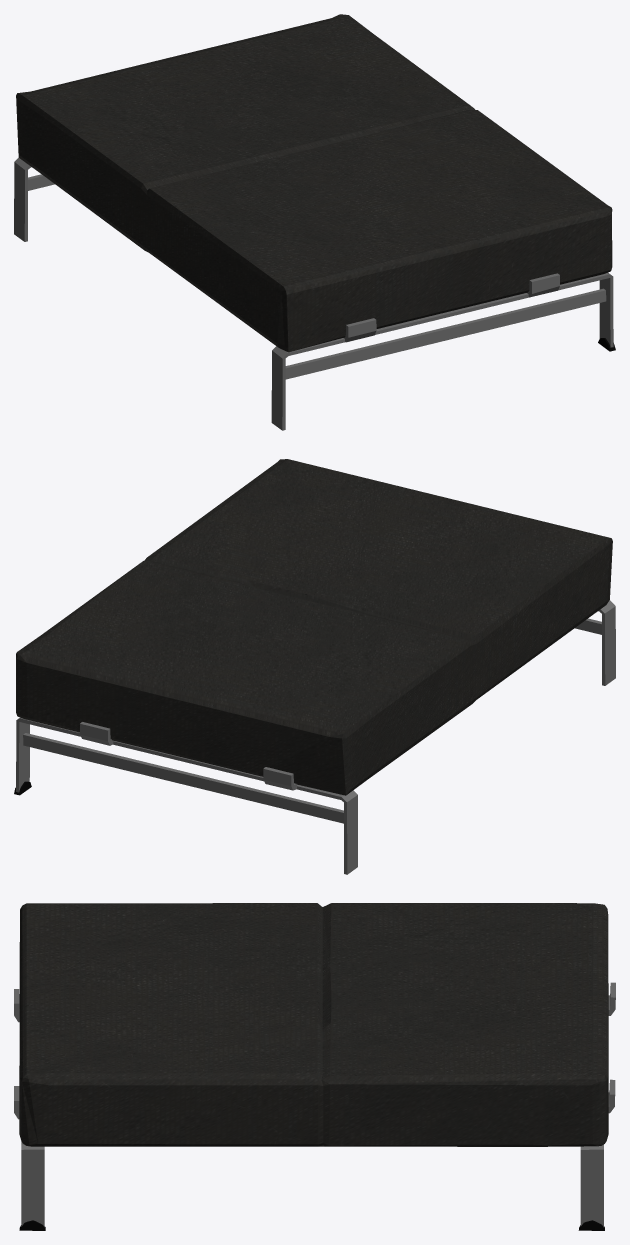
Rendered from Ottoman.fbx.
3 renders of one model, top to bottom at view 1: azimuth 30°, elevation 25°; view 2: azimuth 150°, elevation 25°; view 3: azimuth 270°, elevation 25°, orthographic. The views are drawn at different scales.
Parts seen in each view (by area): view 1: Ottoman; view 2: Ottoman; view 3: Ottoman.
Part boxes in pixels (x1=…): Ottoman: x1=14, y1=14, x2=615, y2=430; Ottoman: x1=14, y1=459, x2=615, y2=874; Ottoman: x1=14, y1=903, x2=615, y2=1230.
Bounding box in the file's own units: 2610 × 1055 × 3743.
